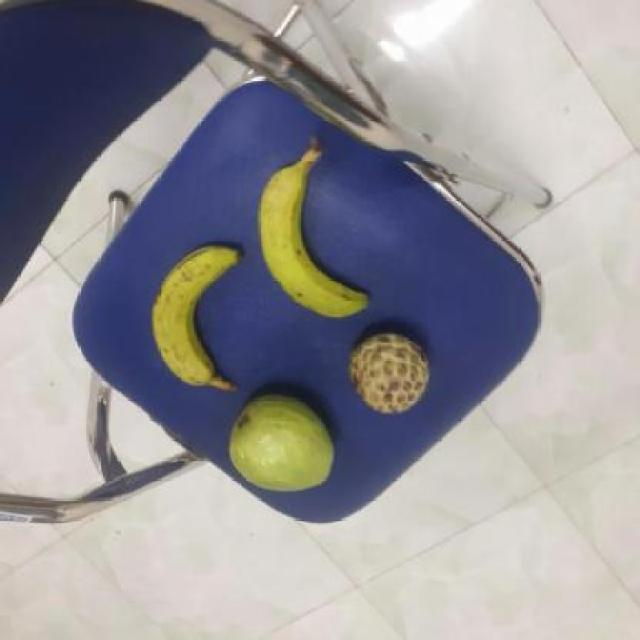banana: (258, 167, 373, 321), (150, 250, 245, 393)
guava: (228, 392, 340, 491)
sugar apple: (352, 332, 438, 416)
